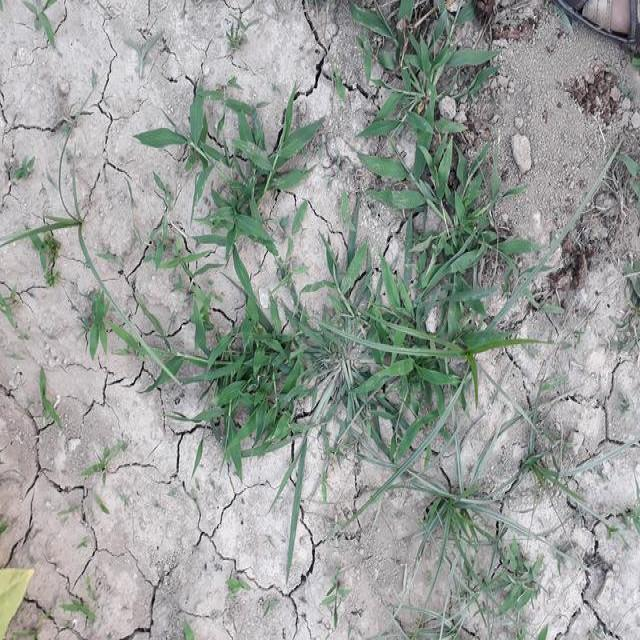weed: (354, 0, 526, 468), (138, 75, 322, 258), (175, 291, 329, 469)
